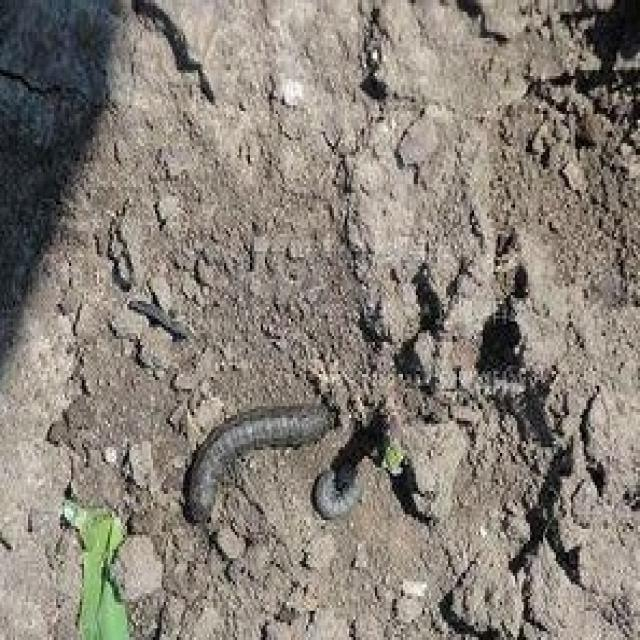black cutworm: (163, 381, 331, 521), (308, 458, 362, 520)
